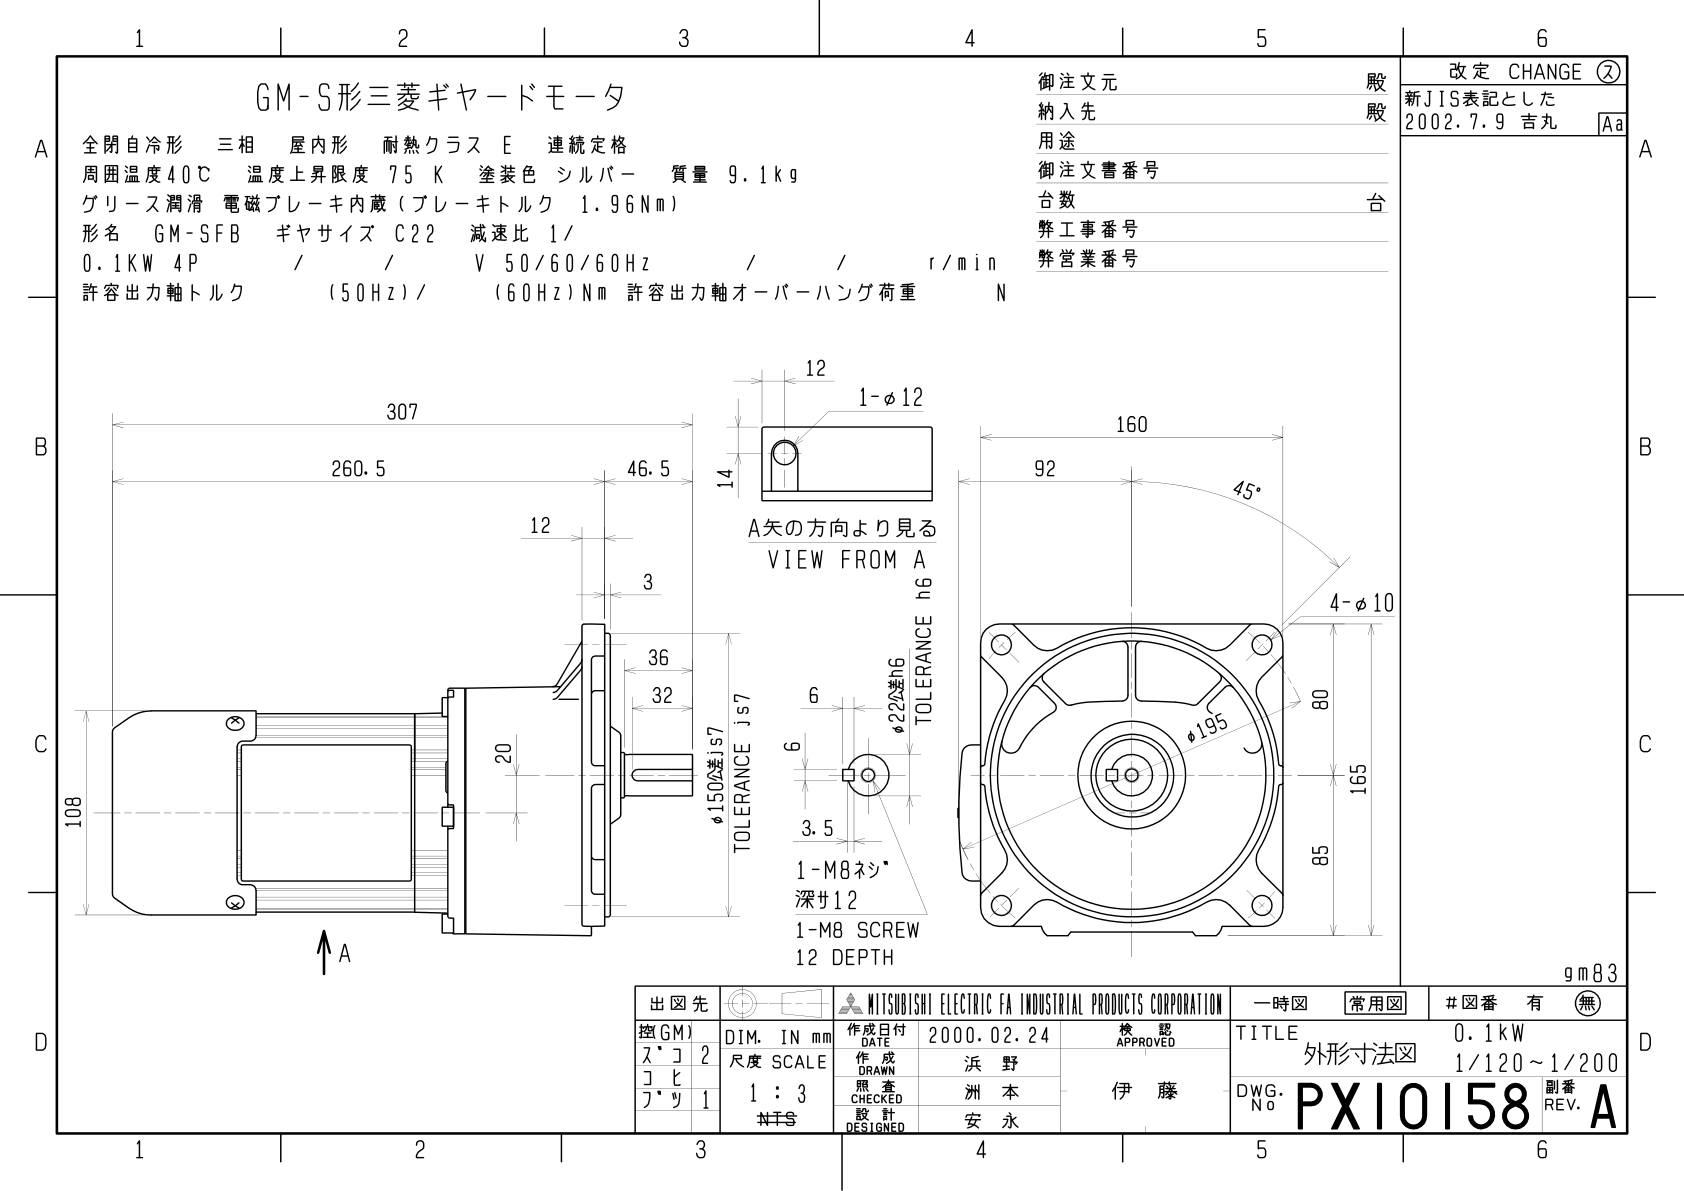GM_S_屋内＿三相_フランジ: (58, 316, 1397, 969)
